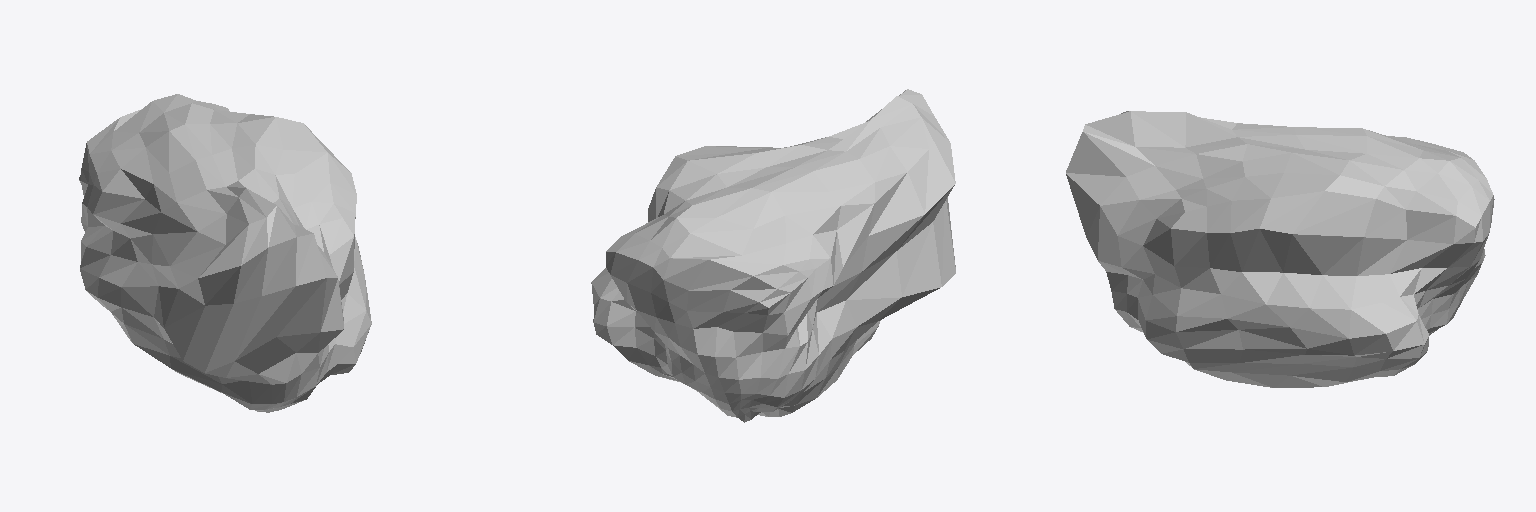
The model's file is rockMesh.OBJ.
3 renders of one model, left to right at view 1: azimuth 30°, elevation 25°; view 2: azimuth 150°, elevation 25°; view 3: azimuth 270°, elevation 25°, orthographic.
Visible parts, largest first — view 1: Group967; view 2: Group967; view 3: Group967.
Boxes of the visible parts, x1=… form: Group967: x1=79, y1=94, x2=371, y2=412; Group967: x1=591, y1=89, x2=955, y2=422; Group967: x1=1066, y1=111, x2=1494, y2=387.
Bounding box in the file's own units: 0.6385 × 0.5855 × 0.9603.